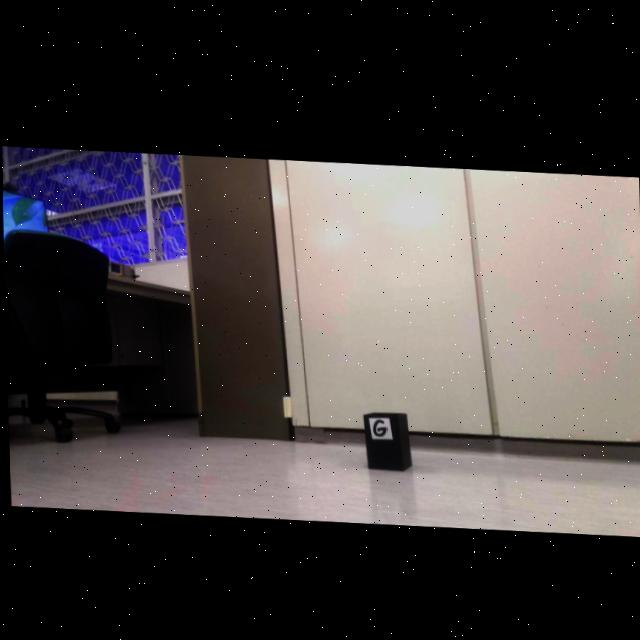G: (372, 414, 385, 431)
